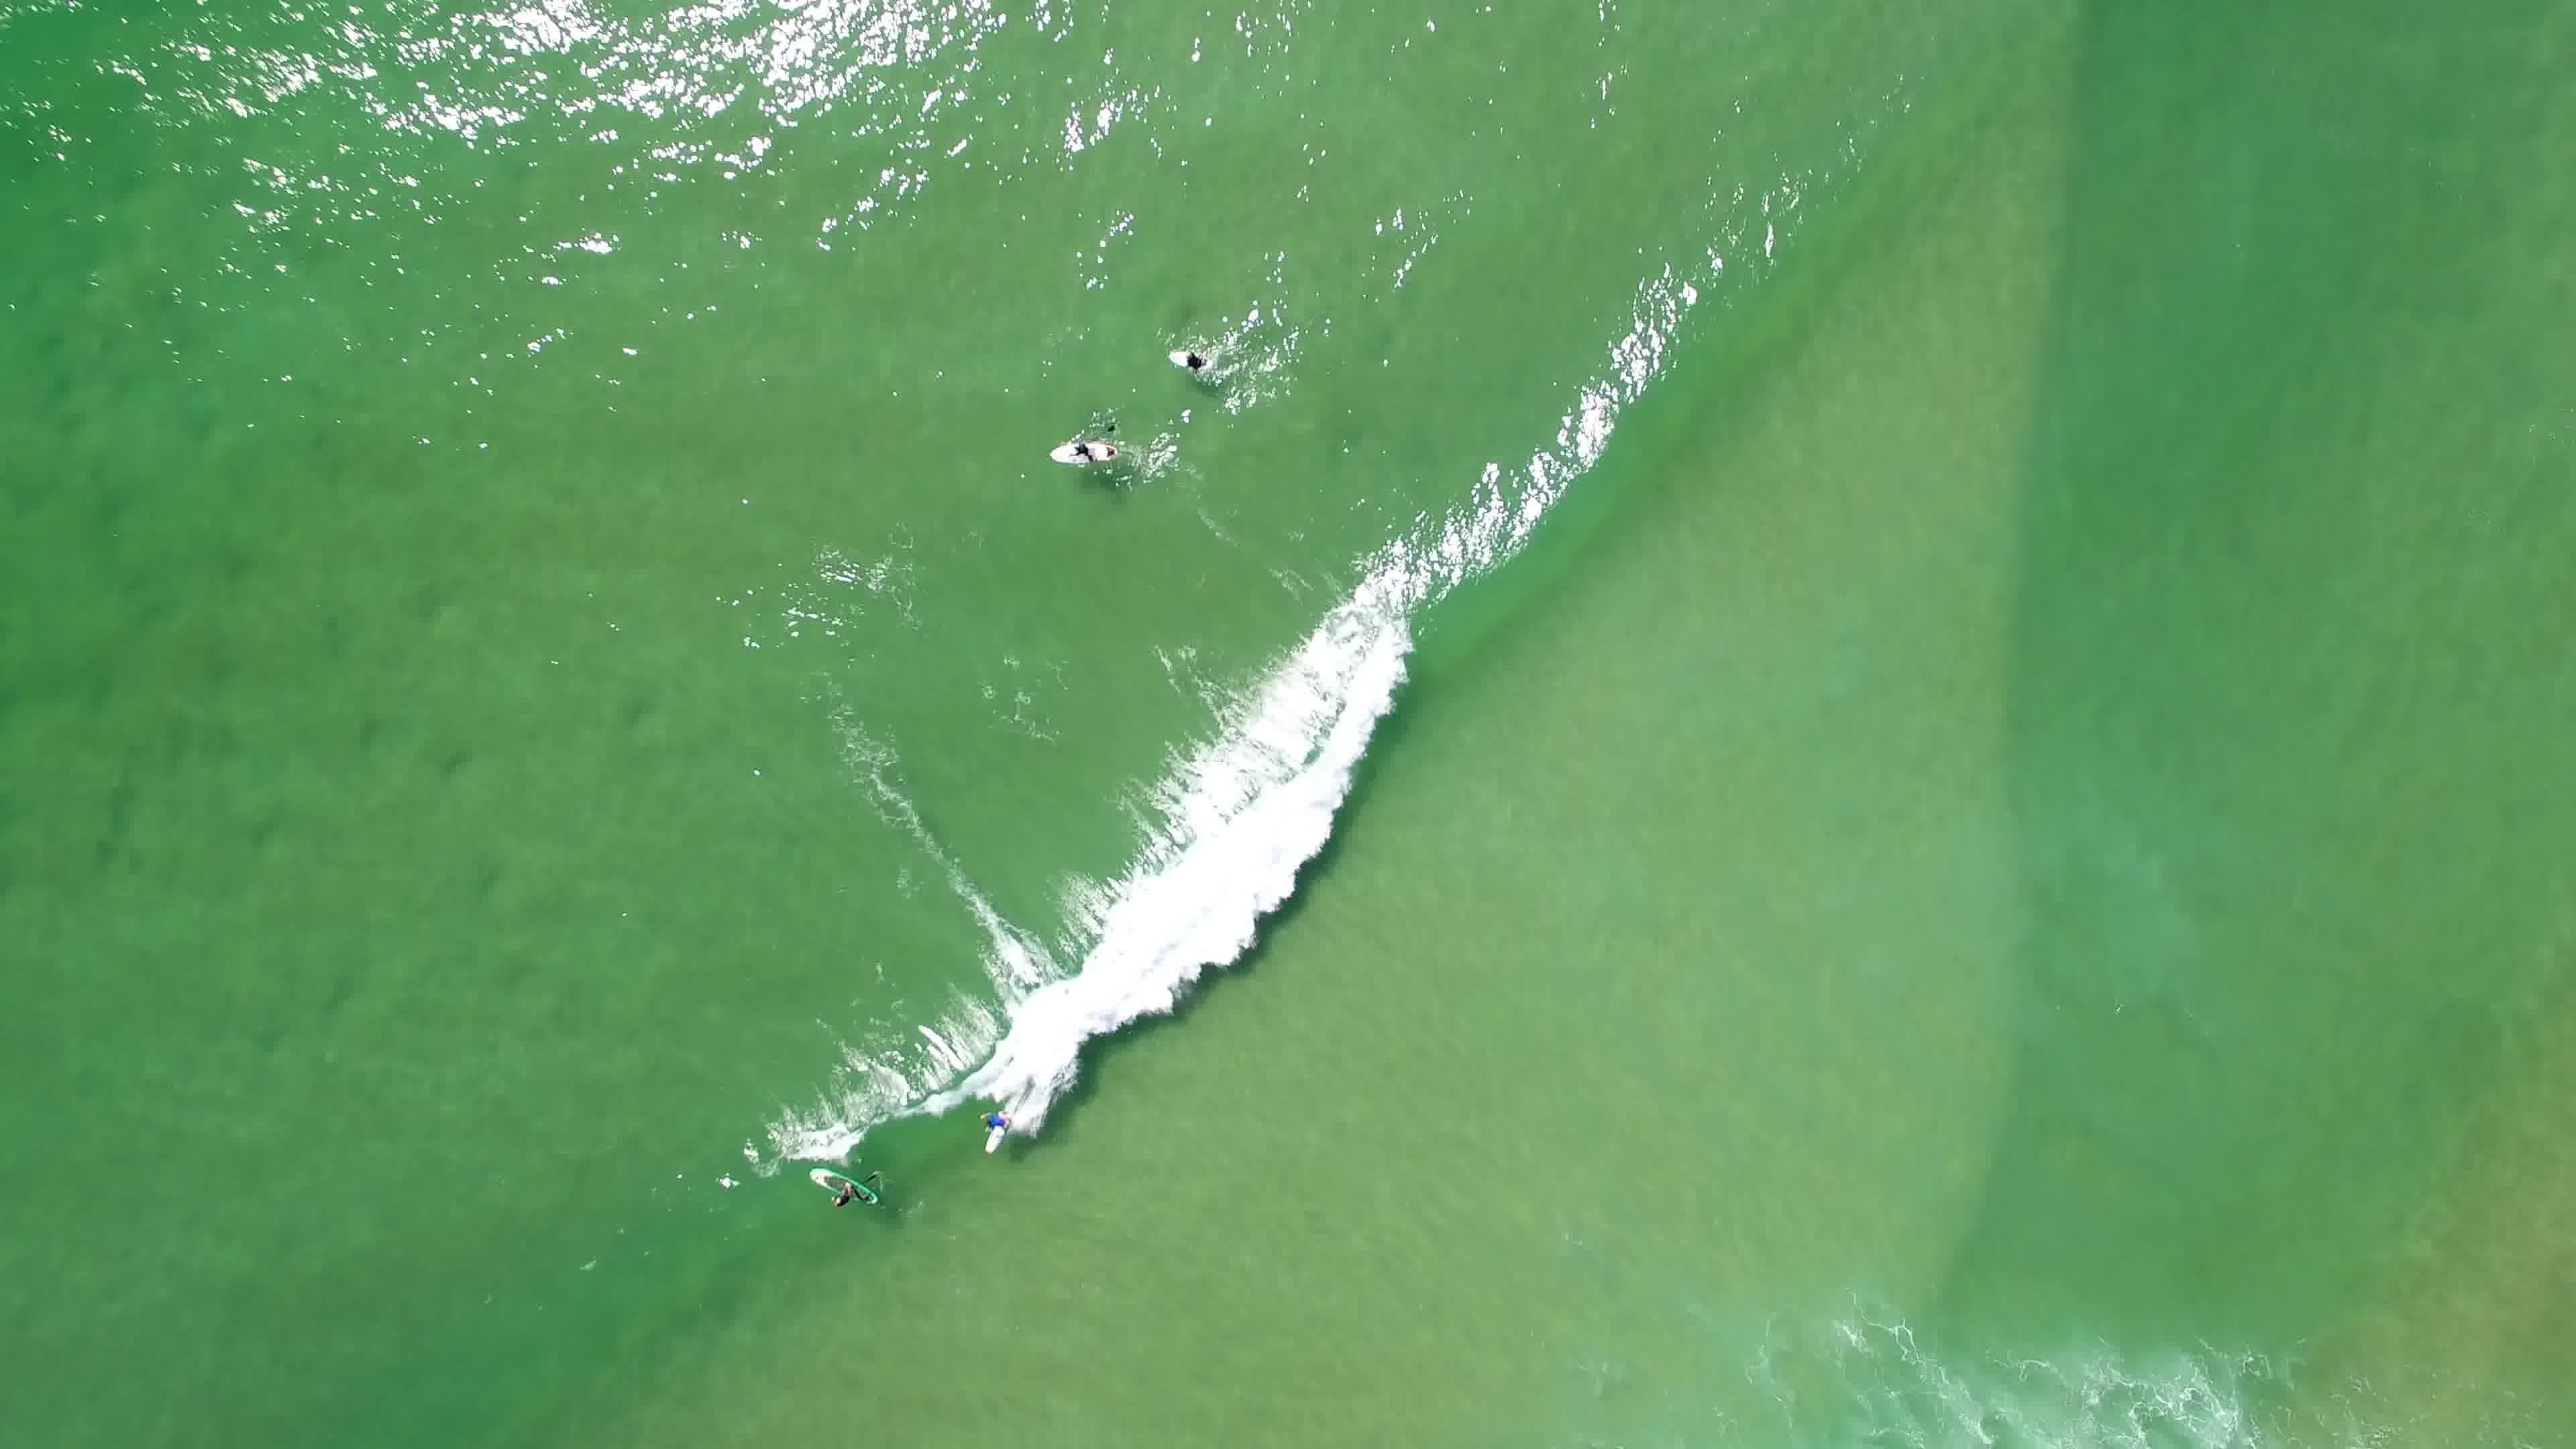surfer: (962, 1079, 1044, 1157), (803, 1152, 897, 1215), (1044, 423, 1134, 472), (1162, 333, 1226, 380)
